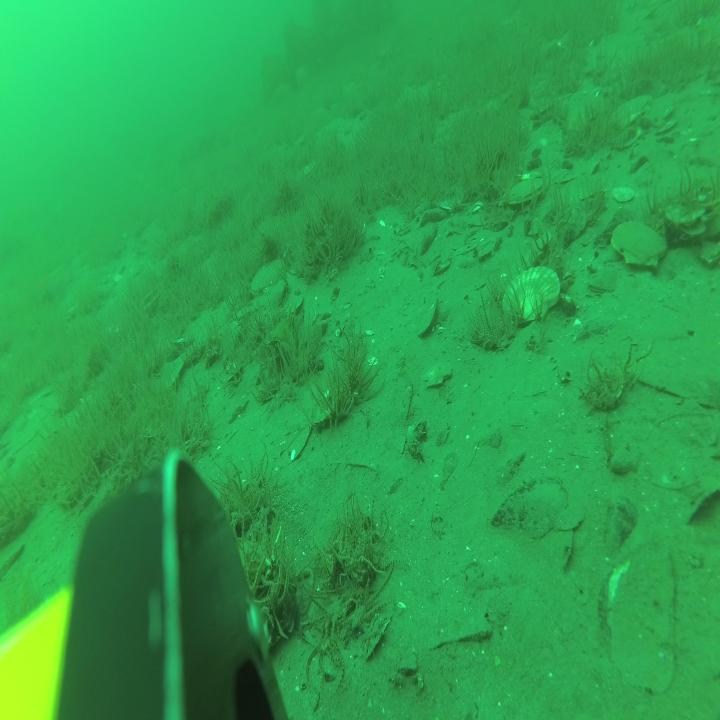scallop: (503, 262, 564, 326), (612, 215, 669, 274), (612, 91, 654, 133), (248, 252, 288, 296), (504, 172, 543, 209), (420, 358, 454, 392)
